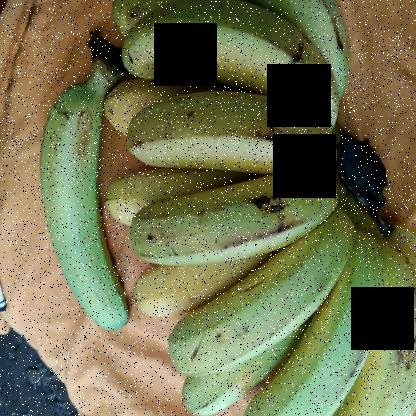freshripe: (32, 89, 132, 336)
ripe: (172, 222, 345, 380), (123, 87, 334, 193), (111, 172, 340, 265), (325, 217, 415, 415)
